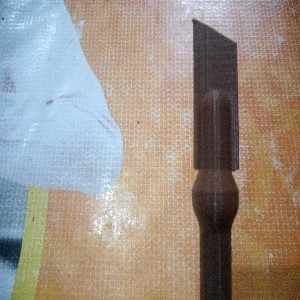cutter: (190, 16, 241, 300)
